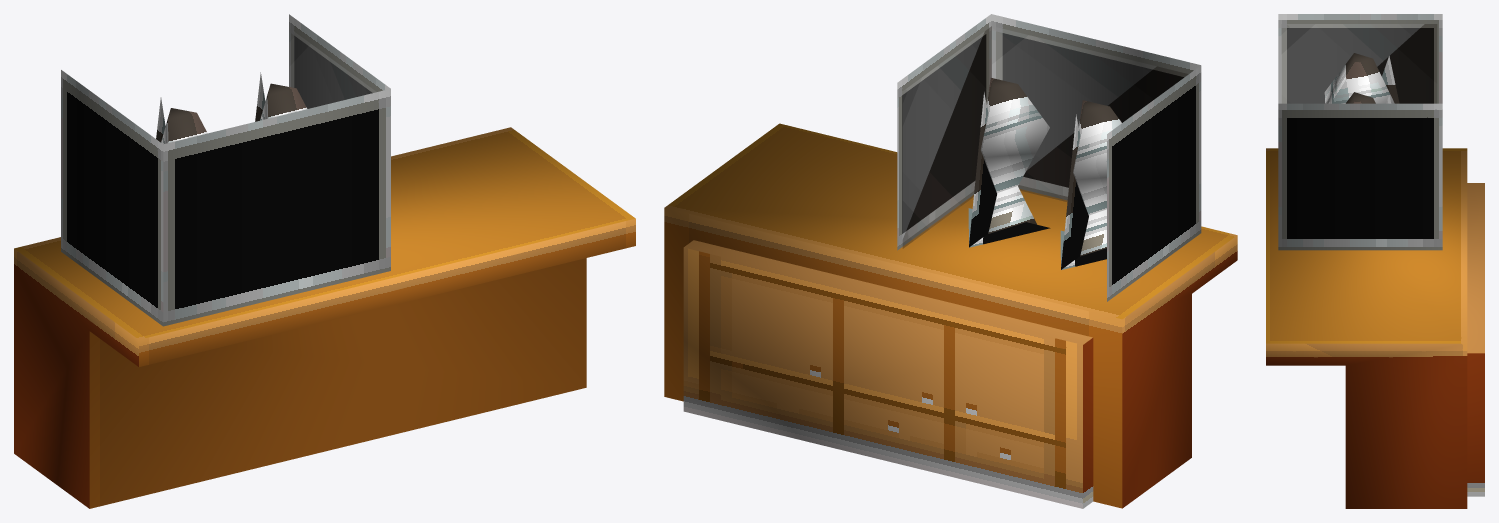
3 renders of one model, left to right at view 1: azimuth 30°, elevation 25°; view 2: azimuth 150°, elevation 25°; view 3: azimuth 270°, elevation 25°, orthographic. The views are drawn at different scales.
Visible parts, largest first — view 1: 3798kg_sh1_21; view 2: 3798kg_sh1_21; view 3: 3798kg_sh1_21.
Part boxes in pixels (box(x1,y1,x2,y2)): 3798kg_sh1_21: box(14, 14, 635, 508); 3798kg_sh1_21: box(664, 14, 1237, 508); 3798kg_sh1_21: box(1266, 14, 1484, 508).
Bounding box in the file's own units: 1.9 × 1.42 × 0.8999.
4 materials, 4 textured.
